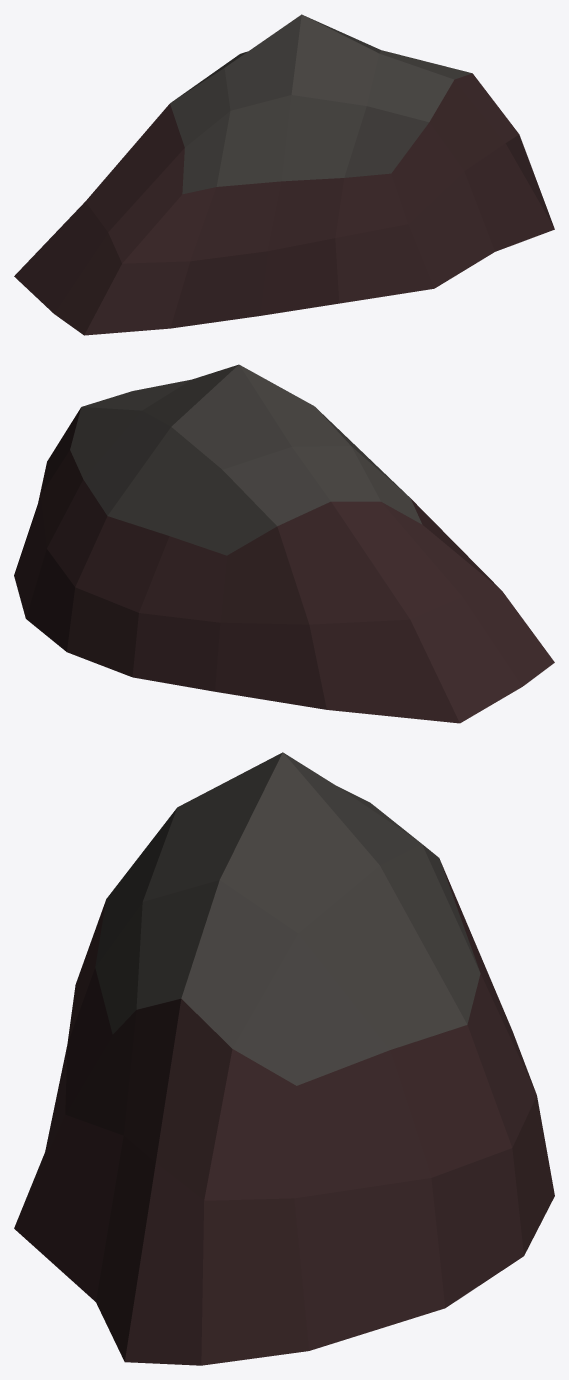
File: SM_Mountain_T3.fbx
3 renders of one model, top to bottom at view 1: azimuth 30°, elevation 25°; view 2: azimuth 150°, elevation 25°; view 3: azimuth 270°, elevation 25°, orthographic. The views are drawn at different scales.
Parts seen in each view (by area): view 1: SM_Mountain_T3; view 2: SM_Mountain_T3; view 3: SM_Mountain_T3.
Part boxes in pixels (left/top/right/bottom): SM_Mountain_T3: left=14, top=14, right=554, bottom=335; SM_Mountain_T3: left=14, top=364, right=554, bottom=723; SM_Mountain_T3: left=14, top=752, right=554, bottom=1365.
Size of the model in its own units: 1508 by 724 by 837.
